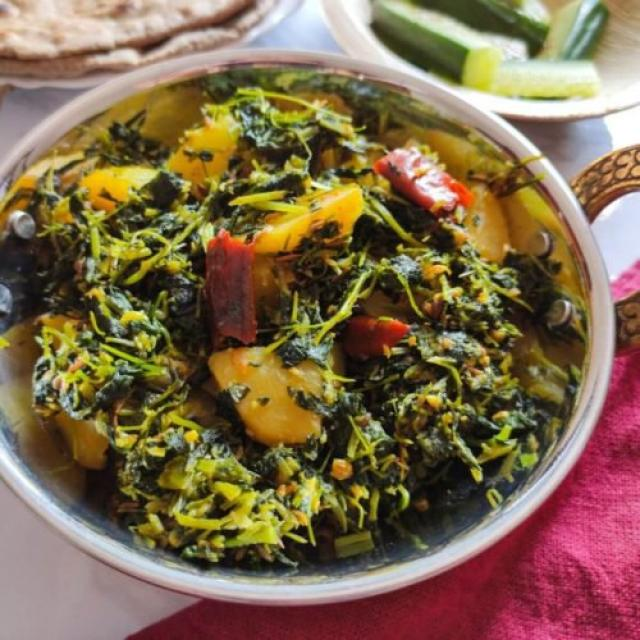aloo_matar: (17, 65, 620, 584)
